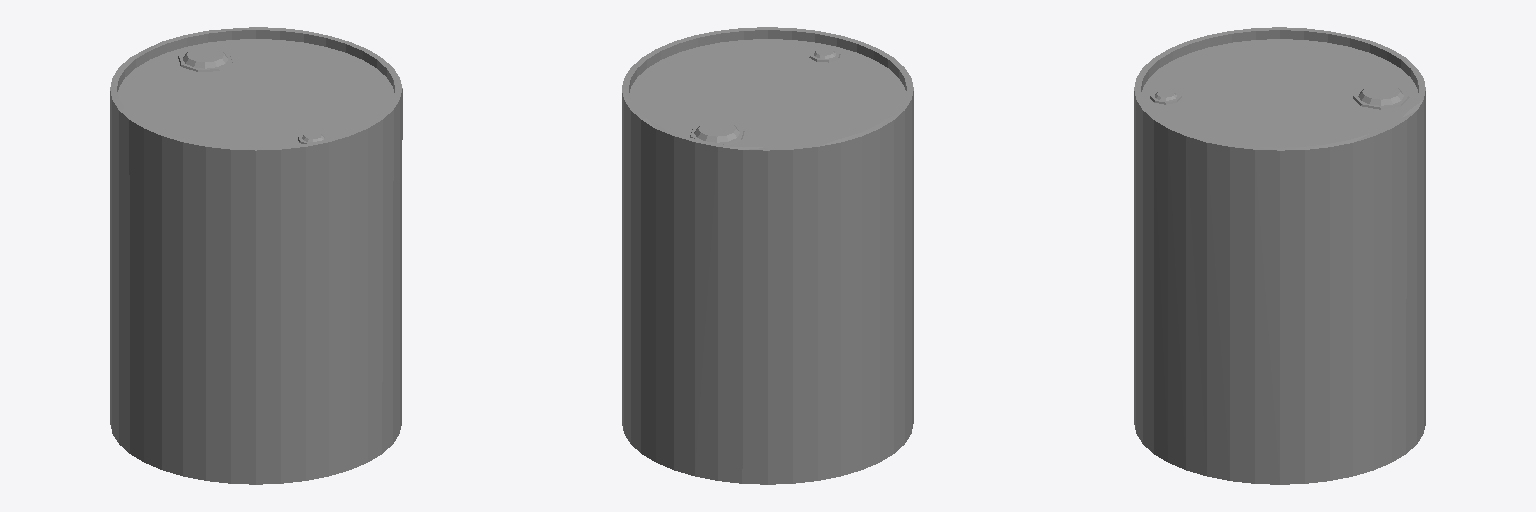
The model's file is Barel_blue.obj.
3 renders of one model, left to right at view 1: azimuth 30°, elevation 25°; view 2: azimuth 150°, elevation 25°; view 3: azimuth 270°, elevation 25°, orthographic.
Parts seen in each view (by area): view 1: Barel_blue; view 2: Barel_blue; view 3: Barel_blue.
Part boxes in pixels (left/top/right/bottom): Barel_blue: left=110, top=27, right=402, bottom=484; Barel_blue: left=622, top=27, right=913, bottom=484; Barel_blue: left=1134, top=27, right=1425, bottom=484.
Size of the model in its own units: 2.48 by 3.13 by 2.48.